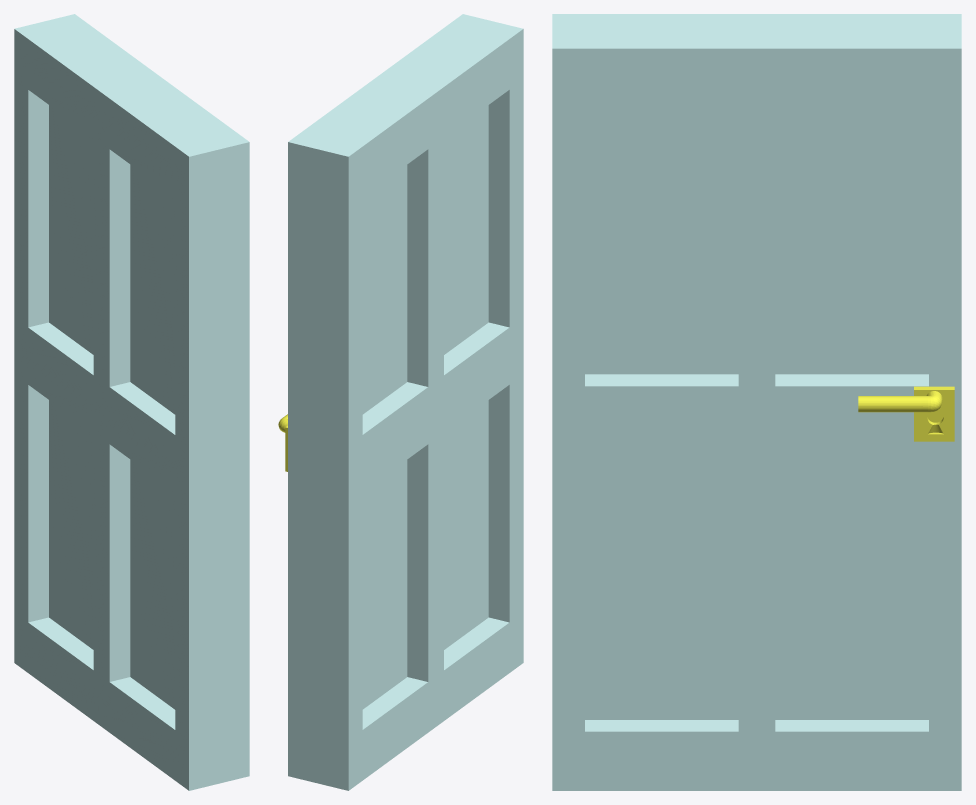
File: porte.fbx
The picture shows the model from 3 angles, left to right: view 1: azimuth 30°, elevation 25°; view 2: azimuth 150°, elevation 25°; view 3: azimuth 270°, elevation 25°; orthographic projection. The views are drawn at different scales.
Parts seen in each view (by area): view 1: Cube; view 2: Cube; view 3: Cube.
Part boxes in pixels (x1=…): Cube: x1=14, y1=14, x2=249, y2=790; Cube: x1=278, y1=14, x2=523, y2=790; Cube: x1=552, y1=14, x2=961, y2=790.
Bounding box in the file's own units: 27.24 × 200 × 100.
